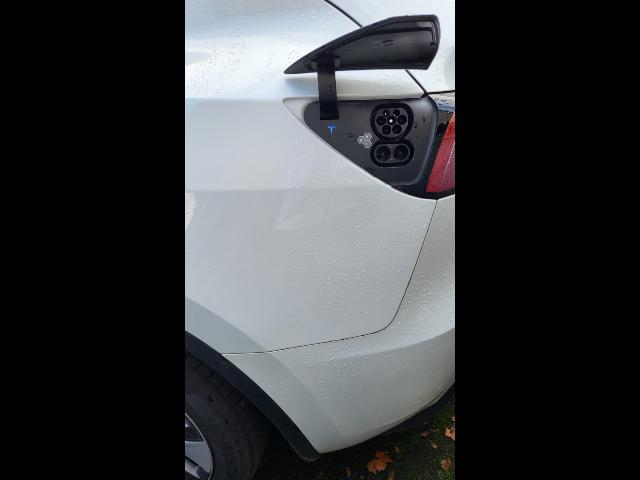inlet: (375, 108, 408, 137)
inlet-above-left: (383, 110, 390, 117)
inlet-above-right: (393, 109, 400, 116)
inlet-below-left: (382, 125, 391, 135)
inlet-below-right: (392, 124, 402, 134)
inlet-circle: (387, 115, 396, 126)
inlet-circle-left: (376, 116, 386, 126)
inlet-circle-right: (397, 115, 407, 125)
inlet-minus: (393, 145, 408, 161)
inlet-plus: (375, 146, 391, 162)
